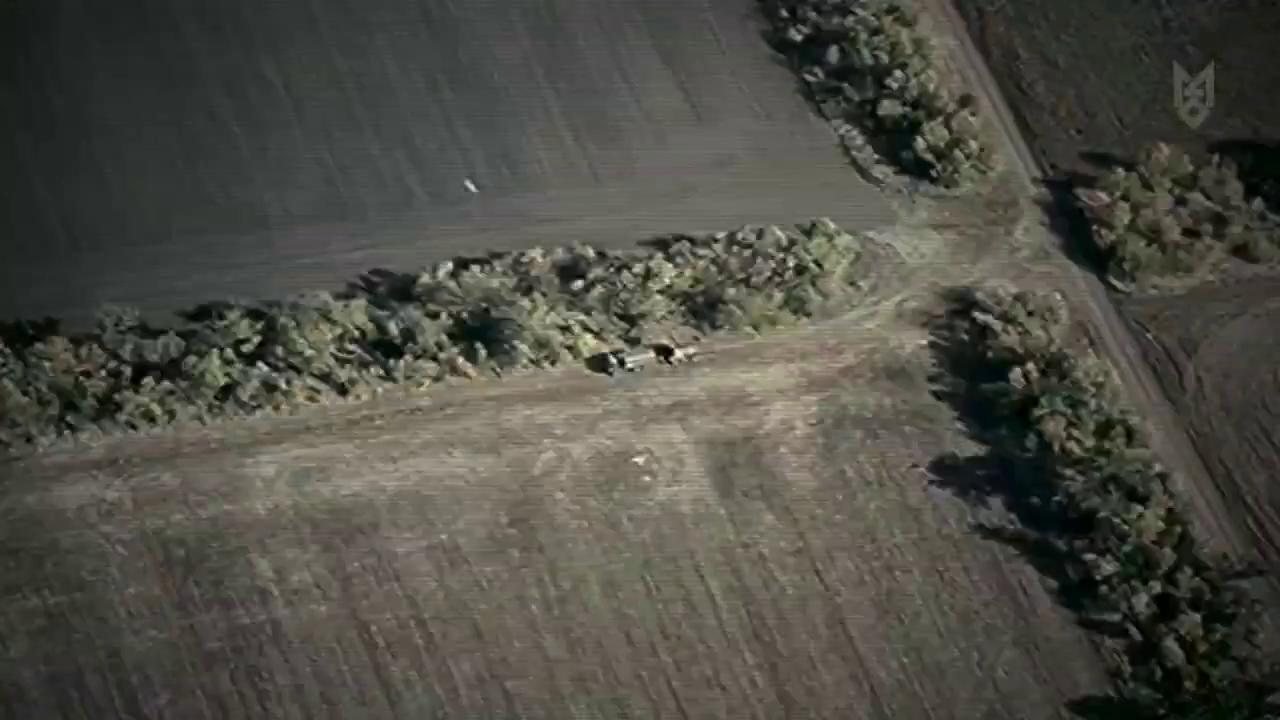tank: (600, 344, 657, 380), (661, 337, 709, 372)
